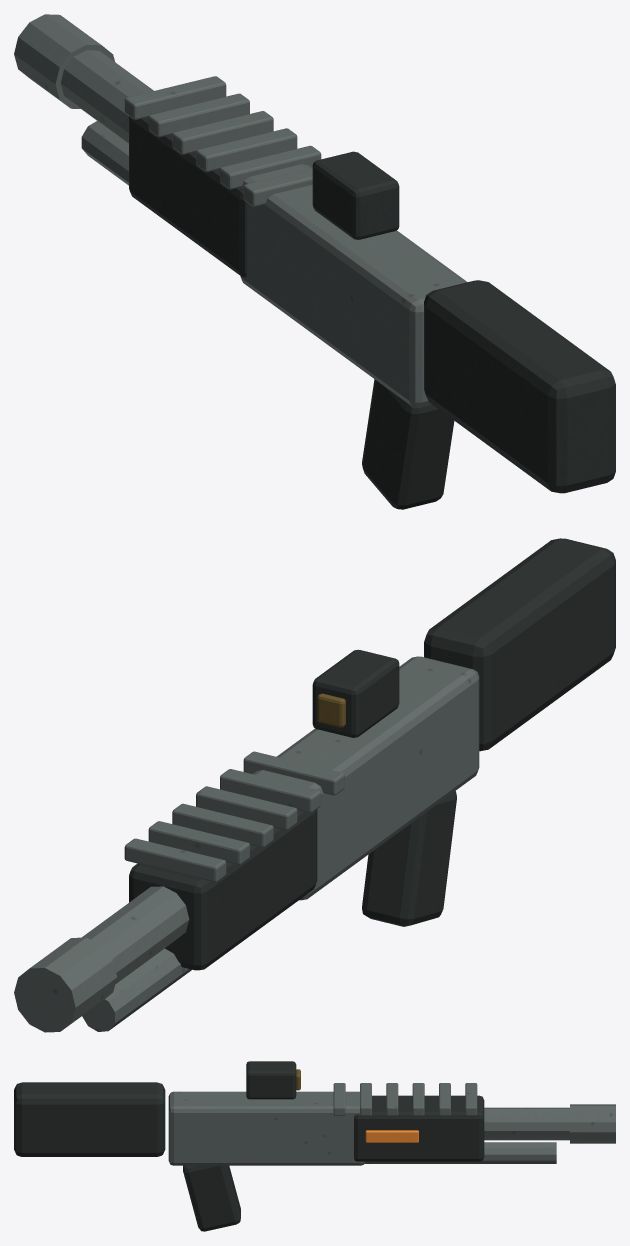
File: standard_shotgun_v1.glb
3 renders of one model, top to bottom at view 1: azimuth 30°, elevation 25°; view 2: azimuth 150°, elevation 25°; view 3: azimuth 270°, elevation 25°, orthographic. The views are drawn at different scales.
Visible parts, largest first — view 1: Weapon_shotgun; view 2: Weapon_shotgun; view 3: Weapon_shotgun.
Boxes of the visible parts, x1,y1,x2,y2 form: Weapon_shotgun: [14, 14, 615, 509]; Weapon_shotgun: [14, 538, 615, 1032]; Weapon_shotgun: [14, 1061, 615, 1231].
Bounding box in the file's own units: 0.09 × 0.2692 × 0.915.
4 materials, 4 textured.
